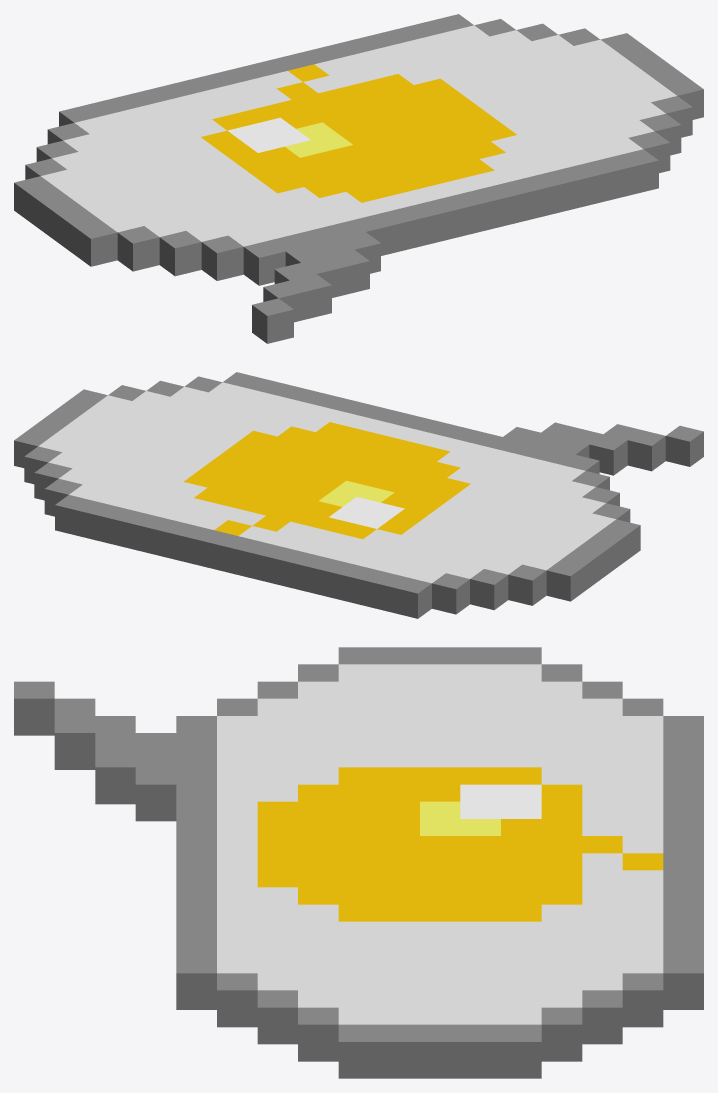
Rendered from 金苹果提示板.FBX.
3 renders of one model, top to bottom at view 1: azimuth 30°, elevation 25°; view 2: azimuth 150°, elevation 25°; view 3: azimuth 270°, elevation 25°, orthographic. The views are drawn at different scales.
Parts seen in each view (by area): view 1: default; view 2: default; view 3: default.
Boxes of the visible parts, x1,y1,x2,y2 form: default: [14, 14, 703, 343]; default: [14, 372, 703, 618]; default: [14, 647, 703, 1078].
Size of the model in its own units: 23 by 1 by 17.
